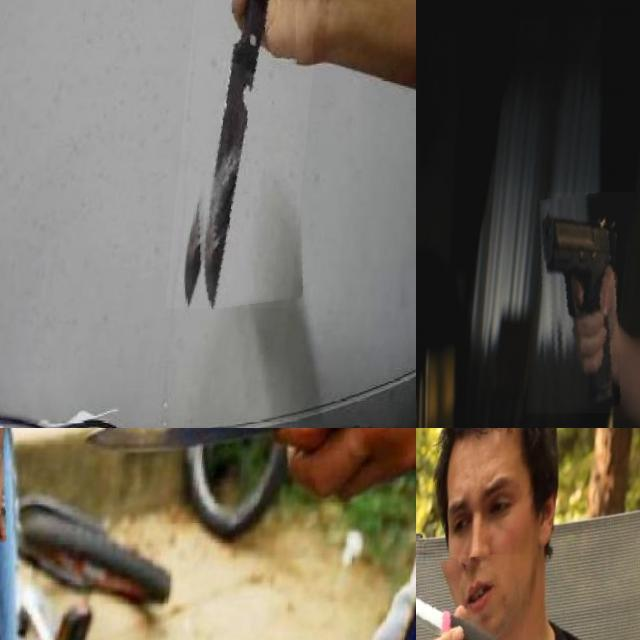-: (175, 0, 331, 309), (0, 428, 98, 640), (416, 555, 537, 640)
gun-knife-thesis - v11 Yolov5 augmented: (534, 192, 638, 414)
